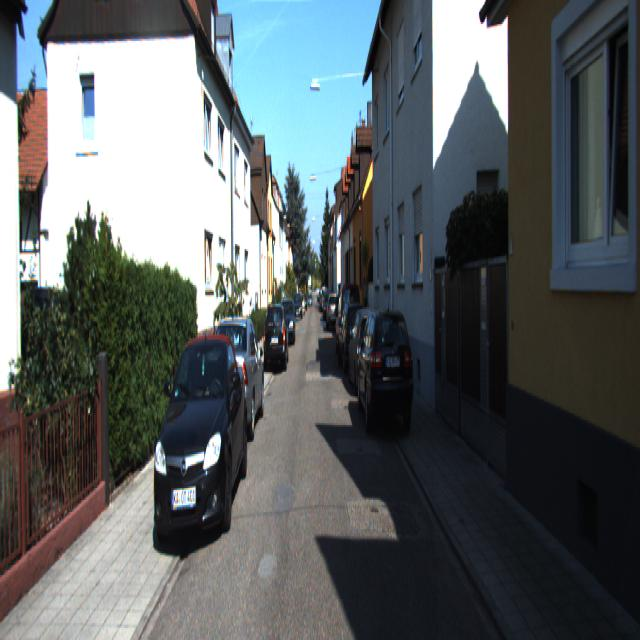Car: (150, 324, 250, 552), (355, 304, 414, 444), (207, 312, 265, 452), (347, 306, 388, 402), (336, 282, 362, 365), (264, 304, 288, 374), (278, 296, 296, 347), (327, 292, 340, 331)
